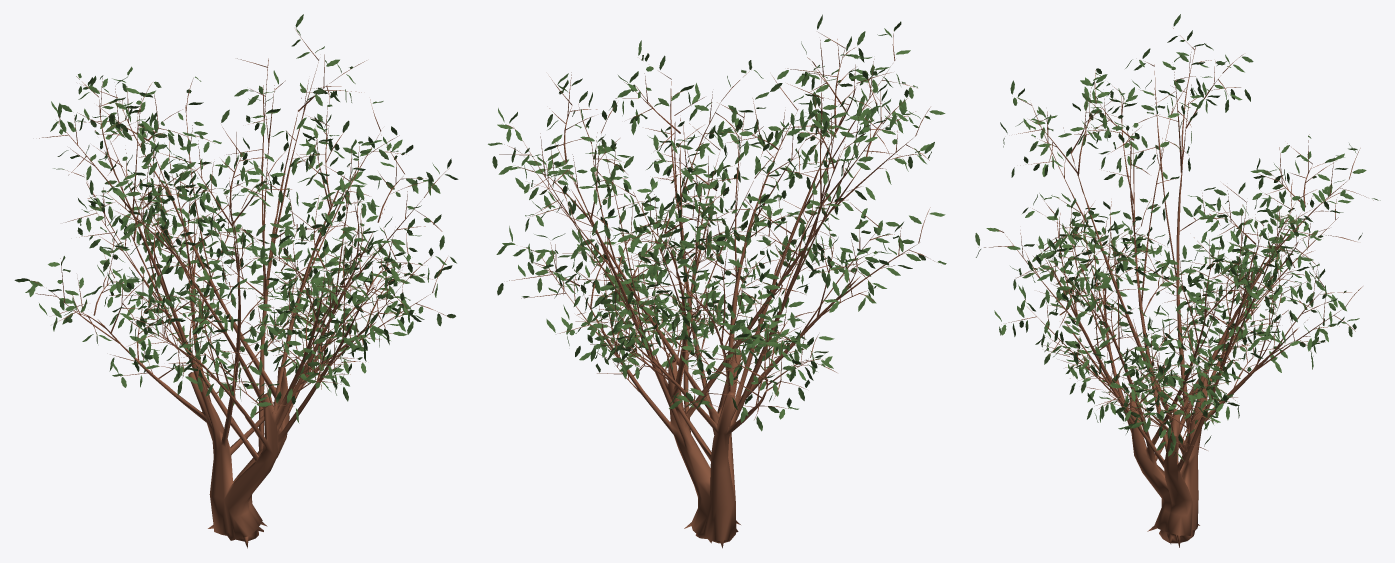
File: Arbousier_1_Niveau0.fbx
The picture shows the model from 3 angles, left to right: view 1: azimuth 30°, elevation 25°; view 2: azimuth 150°, elevation 25°; view 3: azimuth 270°, elevation 25°; orthographic projection. The views are drawn at different scales.
Parts seen in each view (by area): view 1: Arbousier_1_Niveau0; view 2: Arbousier_1_Niveau0; view 3: Arbousier_1_Niveau0.
Part boxes in pixels (x1,y1,x2,y2): Arbousier_1_Niveau0: (14,14,458,548); Arbousier_1_Niveau0: (488,14,946,548); Arbousier_1_Niveau0: (975,14,1380,547).
Size of the model in its own units: 289 by 344 by 289.
